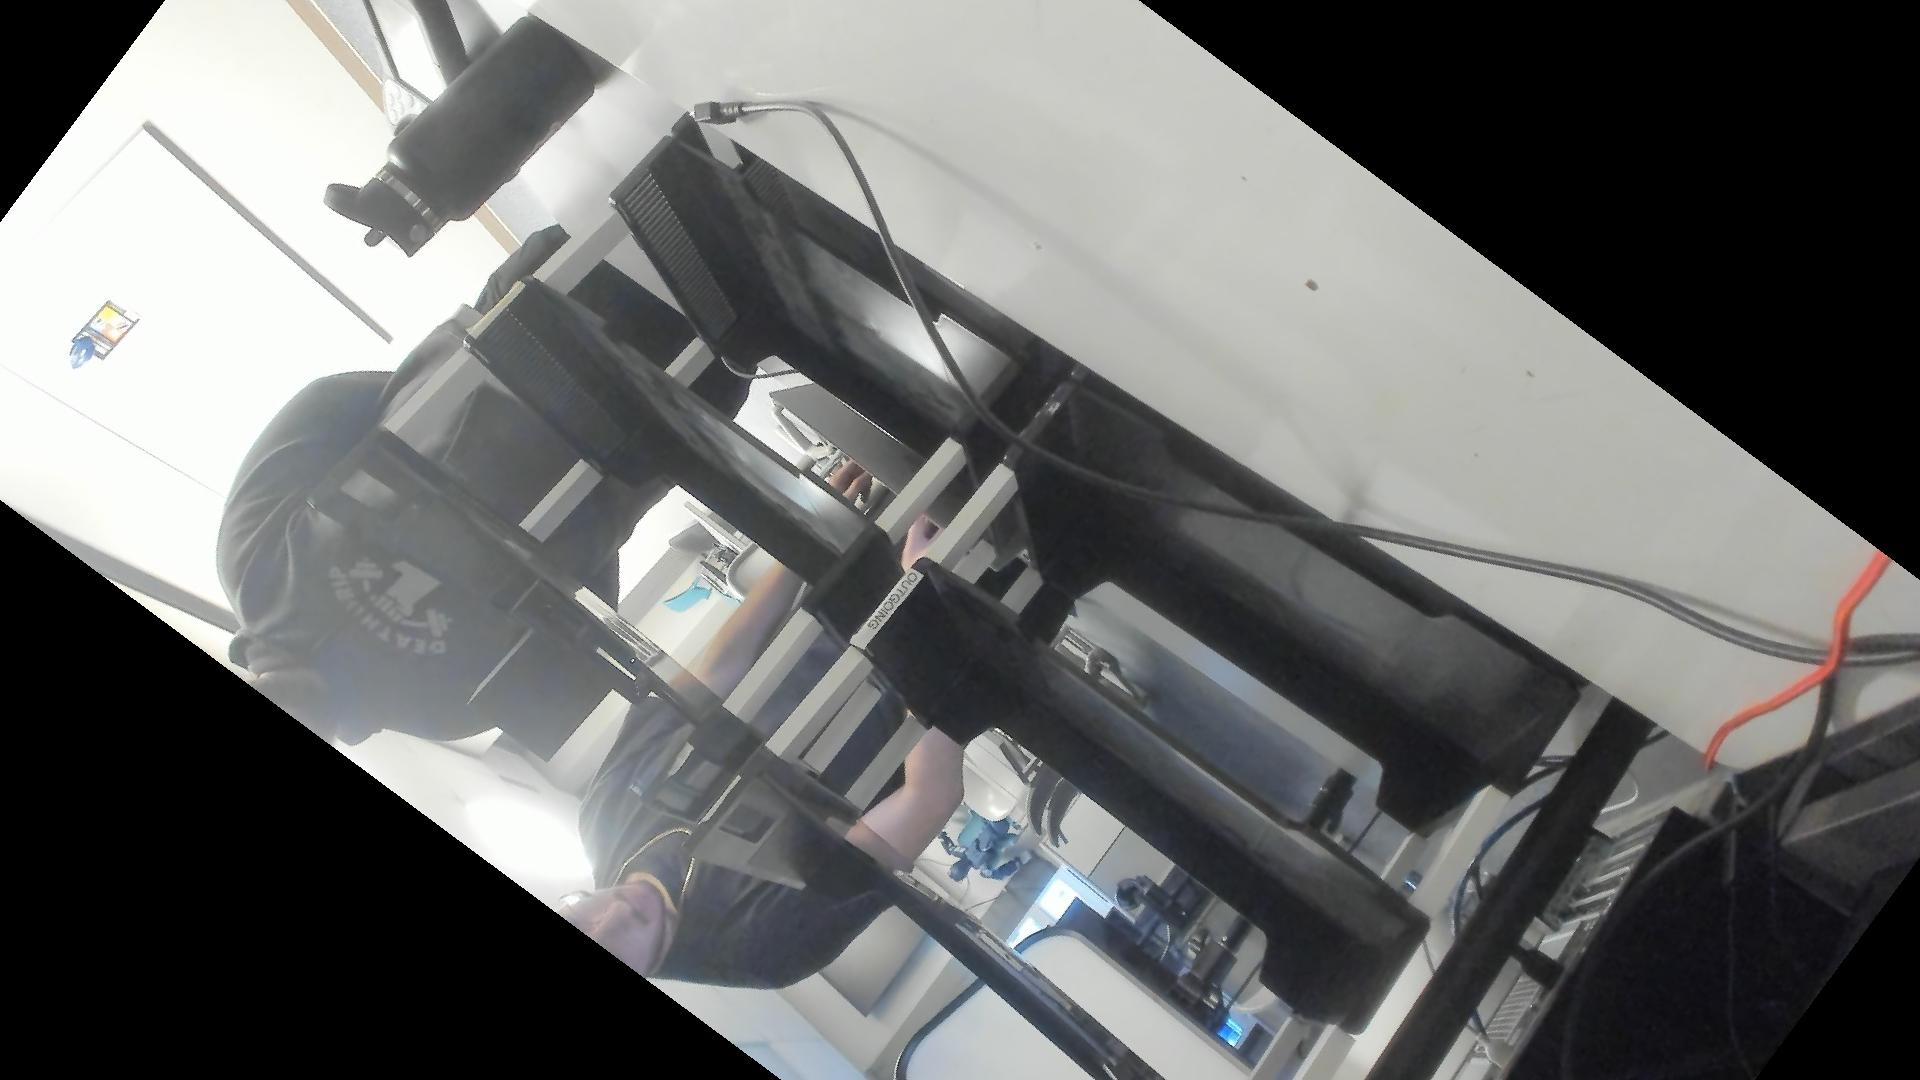black pallet: (458, 568, 661, 767)
